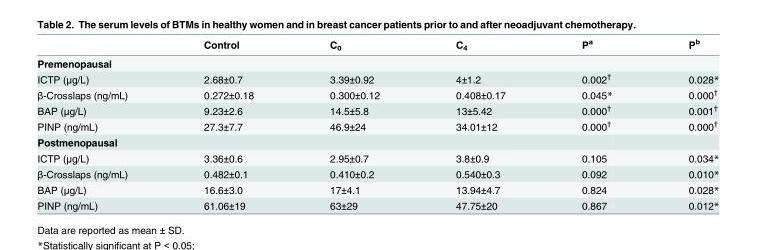table: (36, 36, 718, 211)
table column: (36, 36, 165, 211), (165, 36, 291, 211), (291, 36, 417, 211), (417, 36, 542, 211), (542, 36, 649, 211), (649, 36, 718, 211)
table column header: (36, 36, 718, 54)
table projected row header: (36, 54, 718, 70), (36, 134, 718, 149)
table row: (36, 36, 718, 54), (36, 54, 718, 70), (36, 70, 718, 86), (36, 86, 718, 102), (36, 102, 718, 118), (36, 118, 718, 134), (36, 149, 718, 165), (36, 165, 718, 181), (36, 181, 718, 197), (36, 134, 718, 149), (36, 197, 718, 211)
